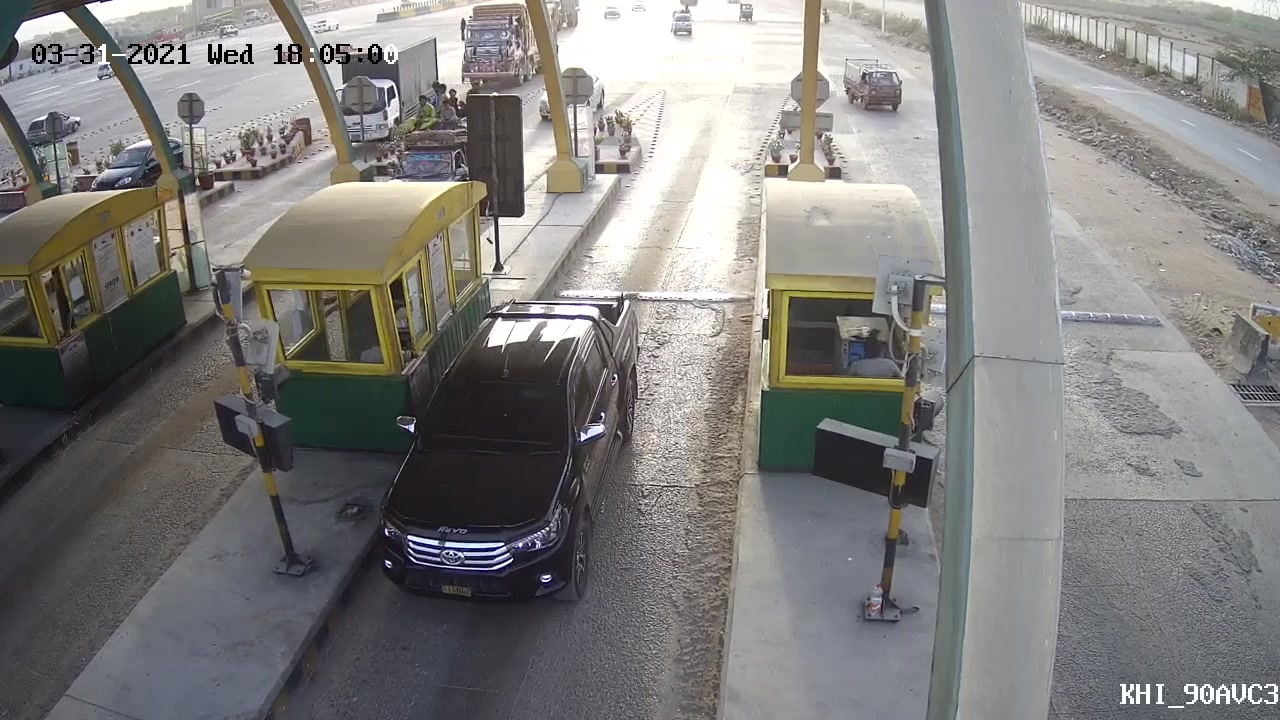F1: (360, 285, 650, 604)
